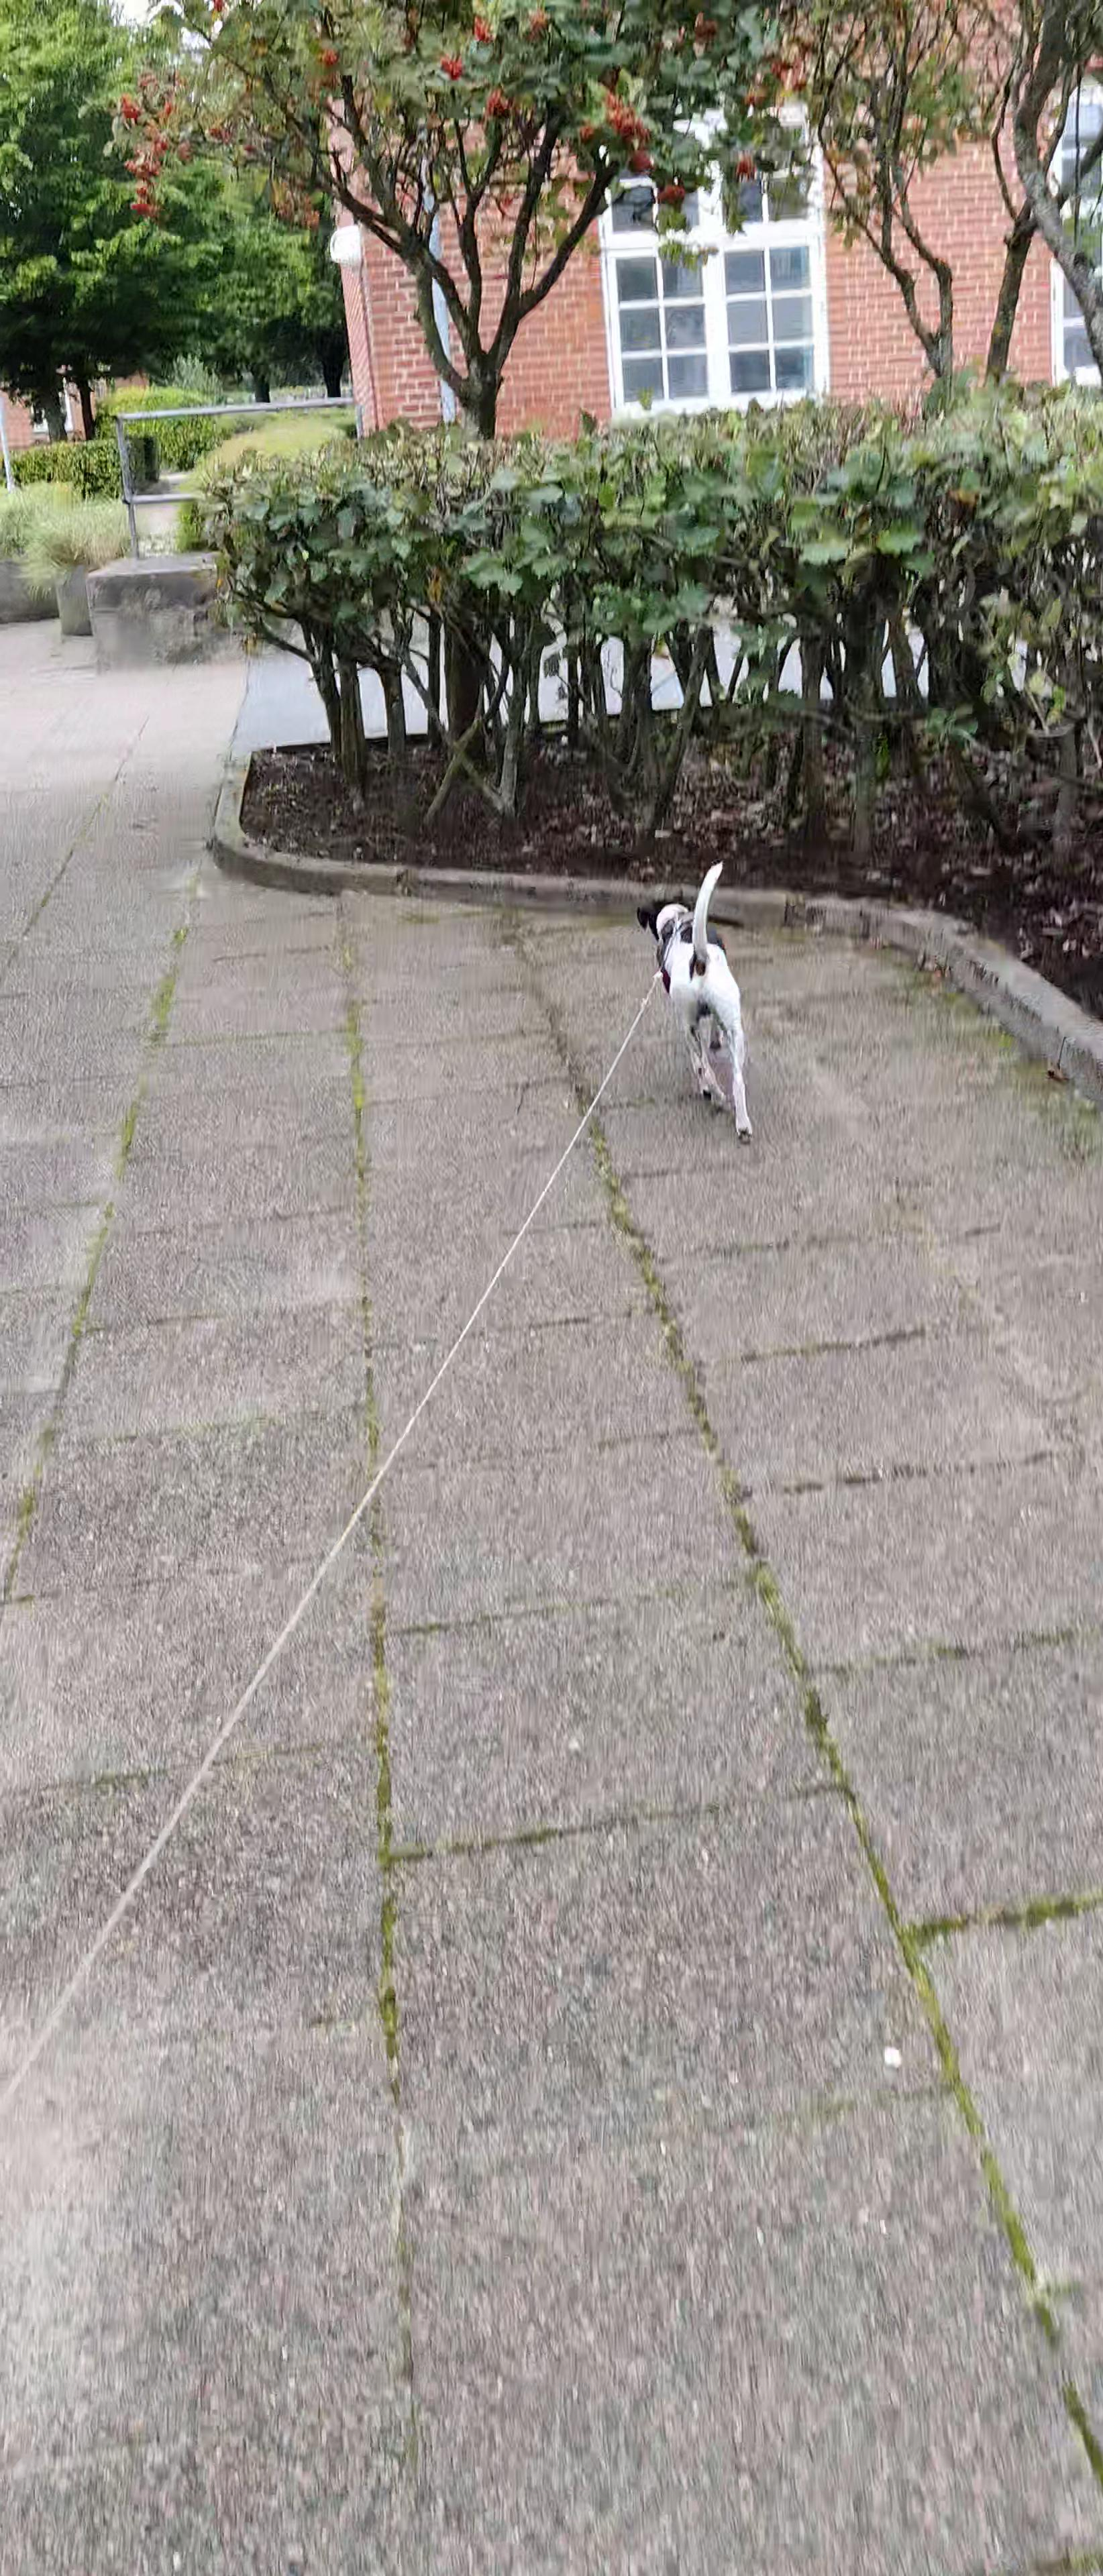Dog: (616, 851, 781, 1165)
